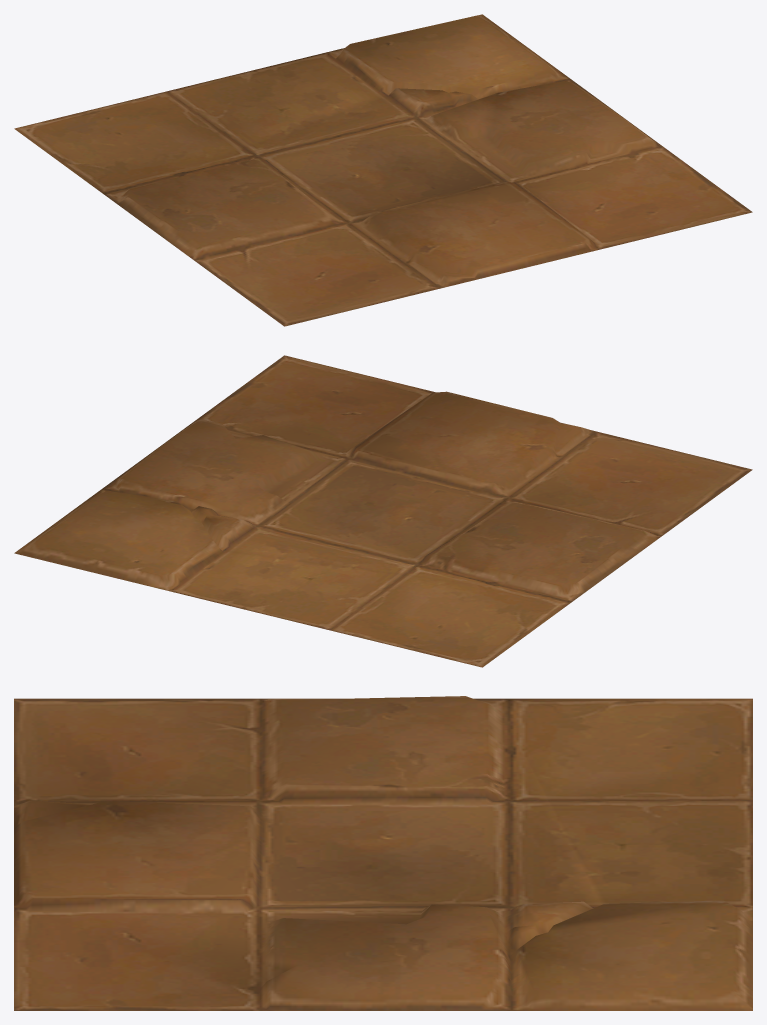
Rendered from shakian_bottom_base4_bricktile02_02.FBX.
3 views of the same model, one above another, from view 1: azimuth 30°, elevation 25°; view 2: azimuth 150°, elevation 25°; view 3: azimuth 270°, elevation 25° (orthographic). The views are drawn at different scales.
Visible parts, largest first — view 1: shakian_bottom_base4_bricktile02_02; view 2: shakian_bottom_base4_bricktile02_02; view 3: shakian_bottom_base4_bricktile02_02.
Boxes of the visible parts, x1=… form: shakian_bottom_base4_bricktile02_02: x1=14, y1=14, x2=752, y2=326; shakian_bottom_base4_bricktile02_02: x1=14, y1=355, x2=752, y2=667; shakian_bottom_base4_bricktile02_02: x1=14, y1=696, x2=752, y2=1010.
Bounding box in the file's own units: 4 × 0.0652 × 4.
